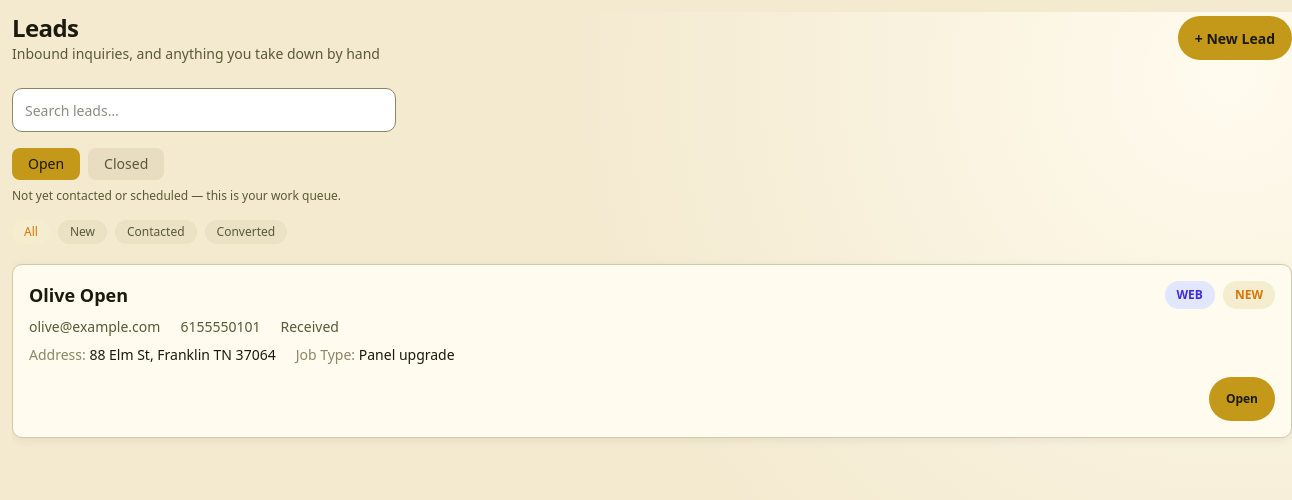
LeadsPage — Search leads… › an empty box puts the tab view back, and Clear search empties the box
Expected: the heading "Olive Open" is shown, [29,281,128,309]
In the field with placeholder "Search leads…": (204, 110) [12,88,396,132], type "carl"
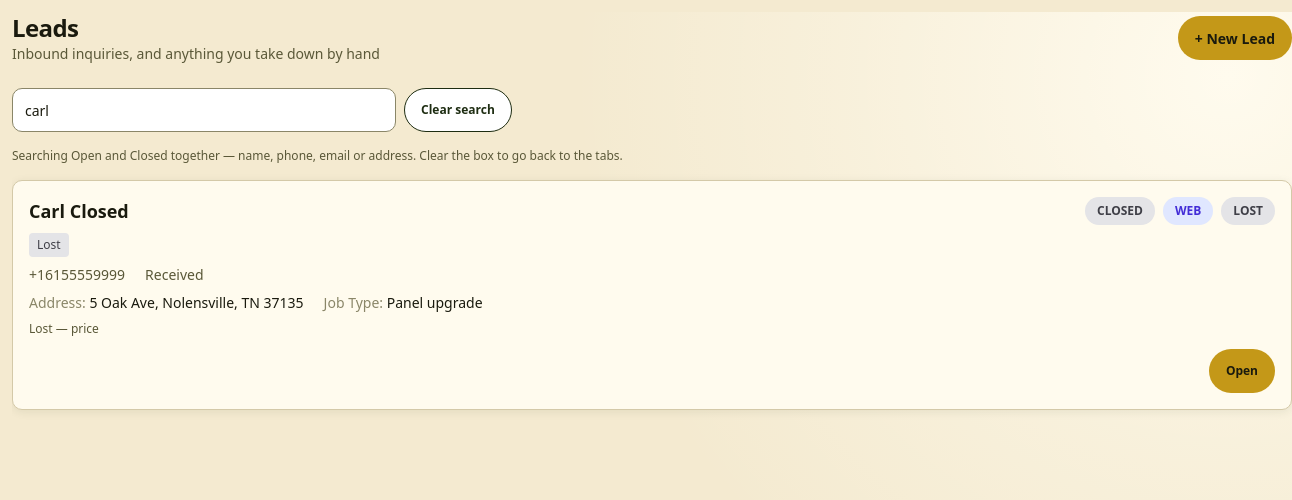
Expected: the heading "Carl Closed" is shown, [29,197,129,225]
Expected: the heading "Olive Open" is gone
Click the button "Clear search": click(458, 110) [404,88,512,132]
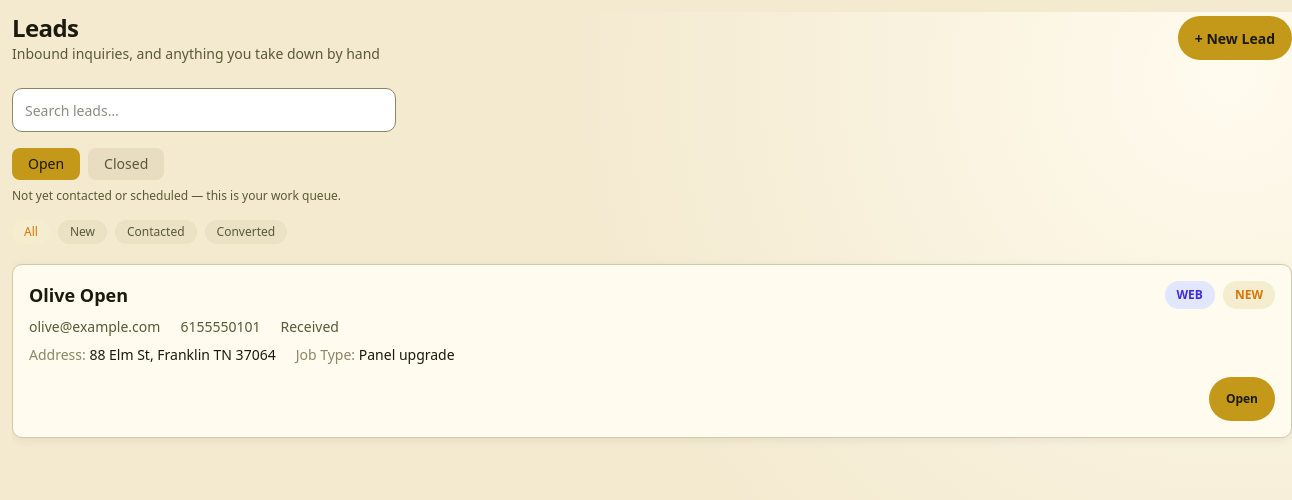
Expected: the heading "Olive Open" is shown, [29,281,128,309]
Expected: the heading "Carl Closed" is gone
Expected: the button "Contacted" is shown, [115,220,197,244]
